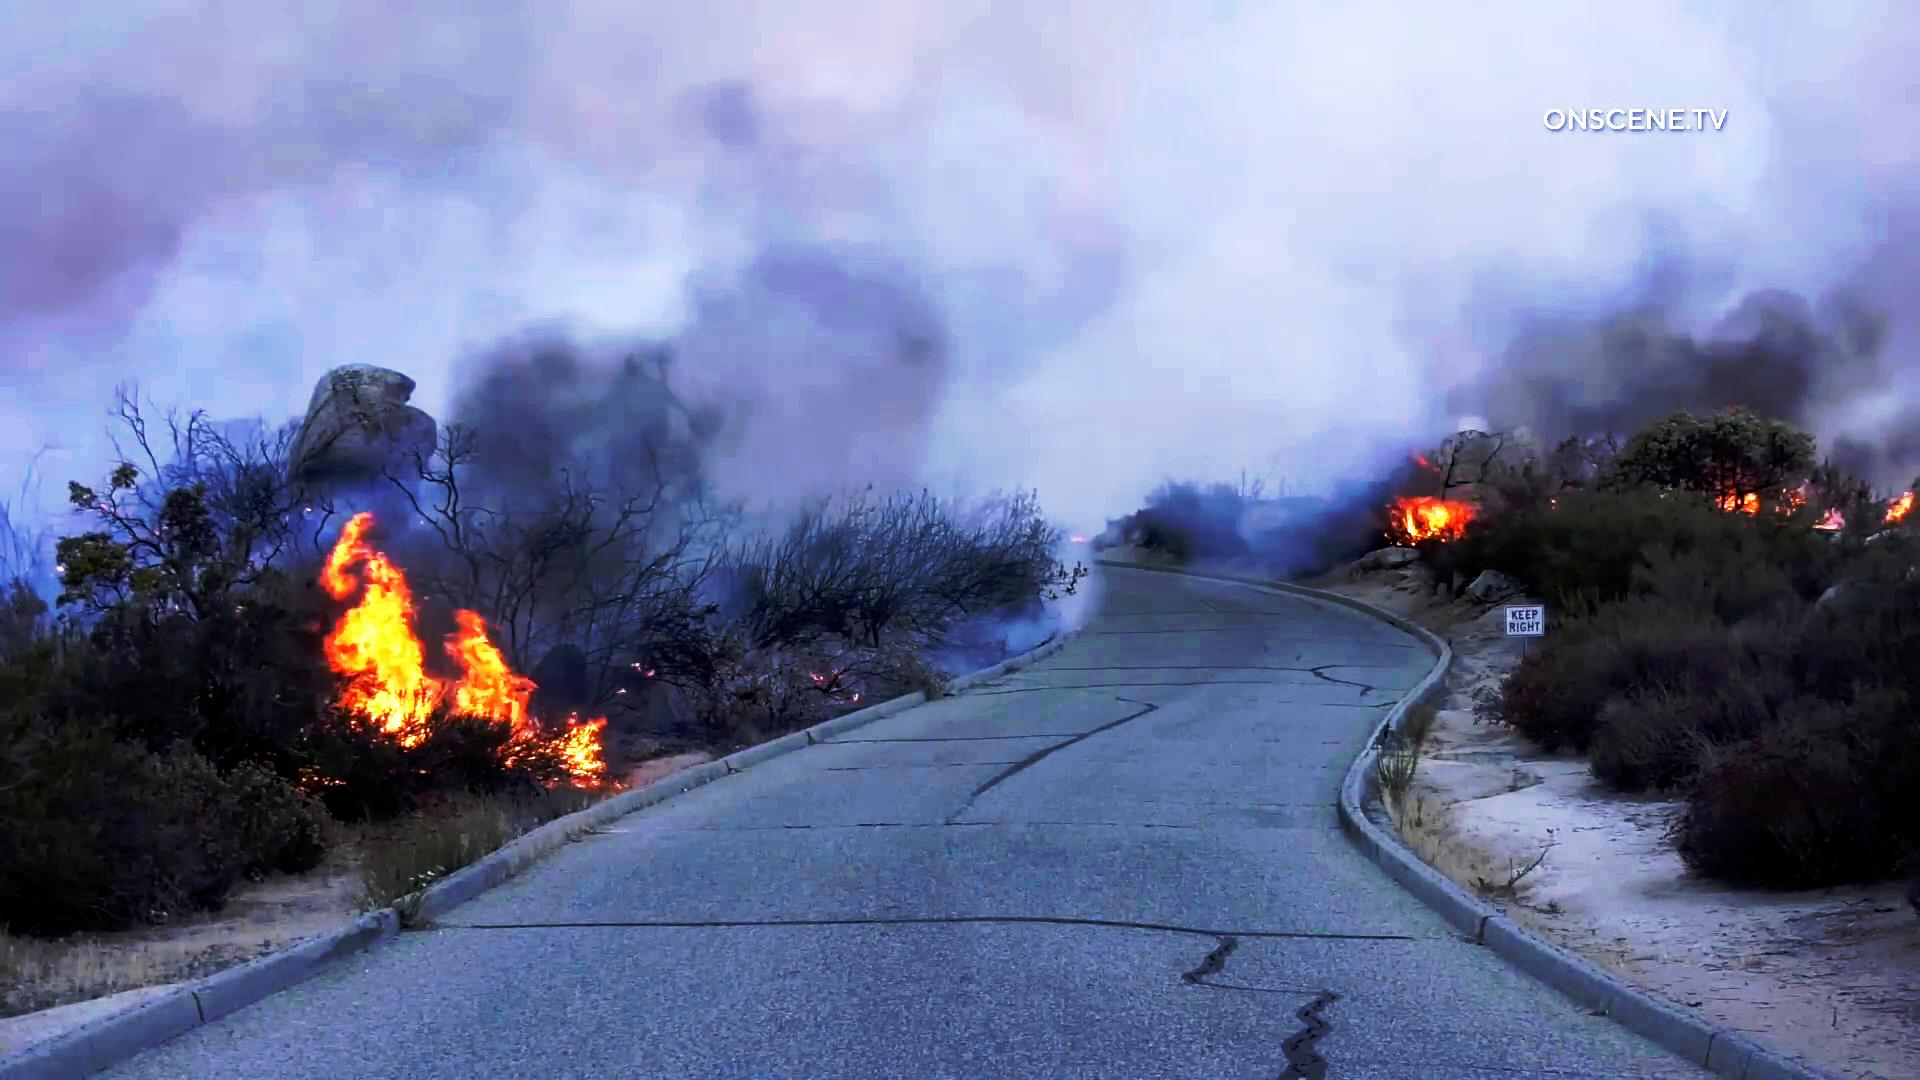fire: (319, 543, 578, 786), (1348, 393, 1505, 571)
smoke: (611, 38, 1511, 417)
